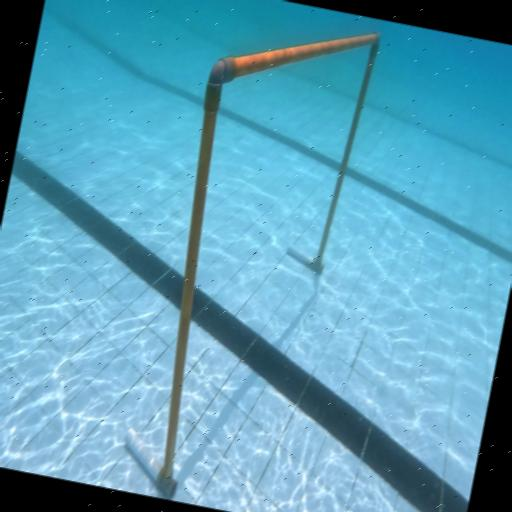gate: (117, 1, 382, 512)
